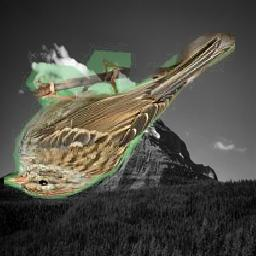Sparrow: (5, 33, 236, 199)
